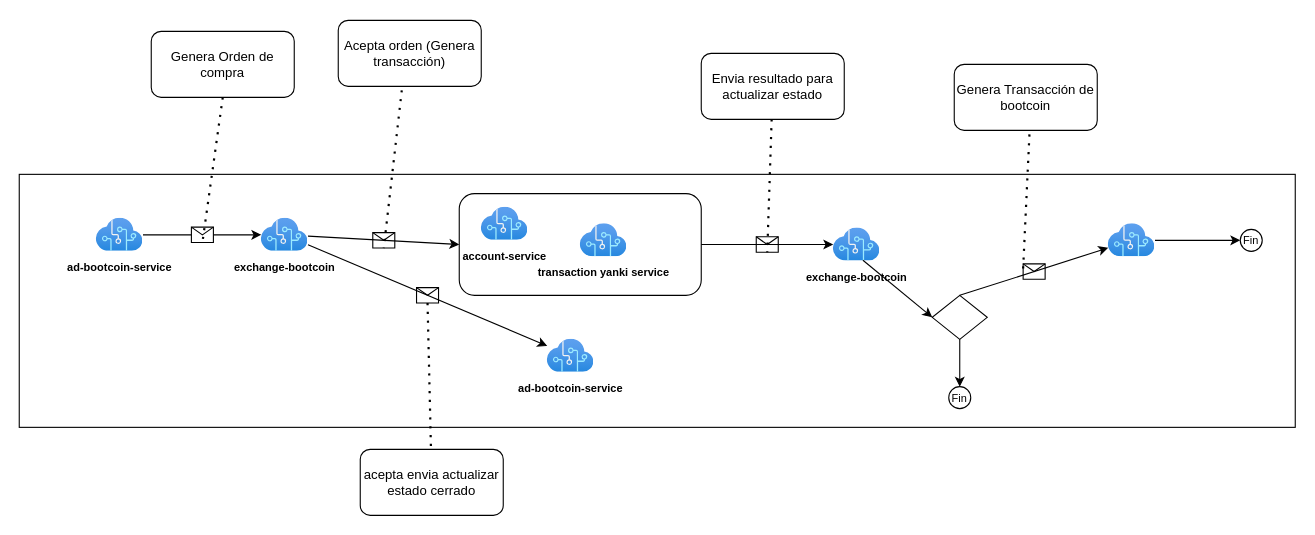
The diagram is 1315 pixels wide and 535 high, and some of its shapes have lost their labels. Here are the shapes that lost their labels. From the top down, the box of each, then its label:
(1108, 223, 1154, 256): bootcoin-service
(931, 294, 987, 339): ¿OK?
